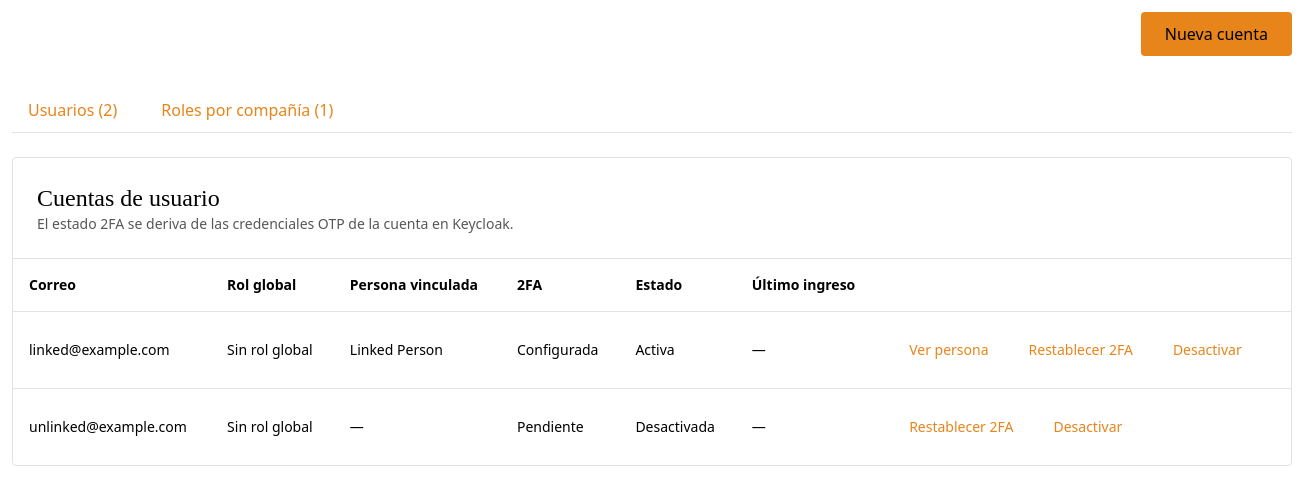
SCR-users-roles › routes only linked accounts to their exact person detail and switches exclusive counted tab panels
The width and height of the screenshot is (1304, 483).
expect the text "linked@example.com" is shown: met, box x1=13 y1=312 x2=211 y2=388
expect the text "Company A" is not shown: met
Click the tab "Roles por compañía (1)" at (247, 110), box x1=145 y1=88 x2=349 y2=132
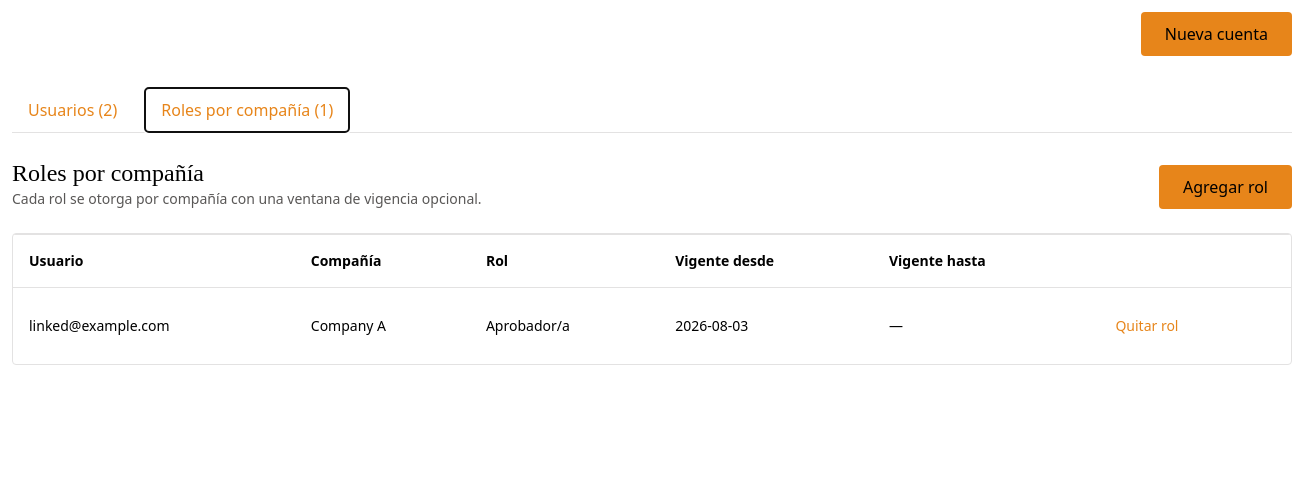
expect the text "Company A" is shown: met, box x1=295 y1=288 x2=470 y2=364
expect the text "unlinked@example.com" is gone: met
